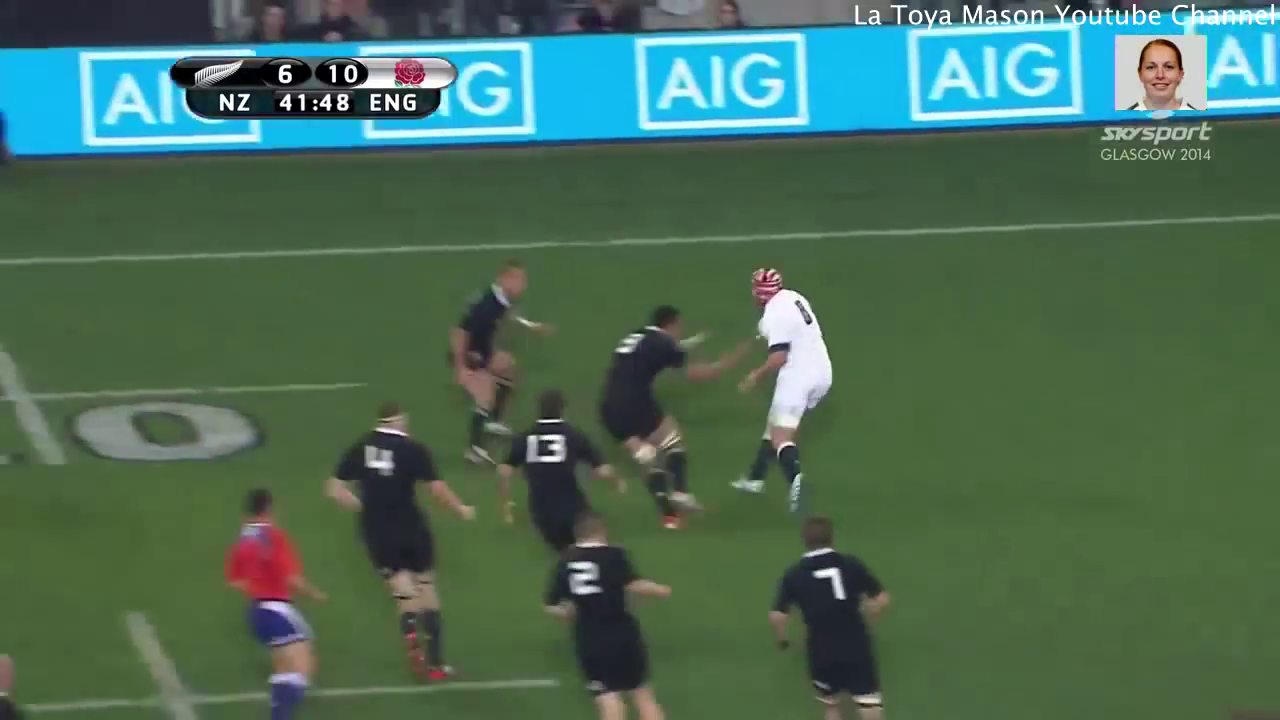10_metre: (1, 606, 564, 720), (1, 330, 369, 471)
player: (324, 397, 481, 689), (537, 512, 685, 720), (758, 512, 900, 720), (731, 265, 840, 510), (216, 470, 322, 720), (591, 302, 703, 534), (444, 252, 551, 469), (502, 386, 595, 533)
